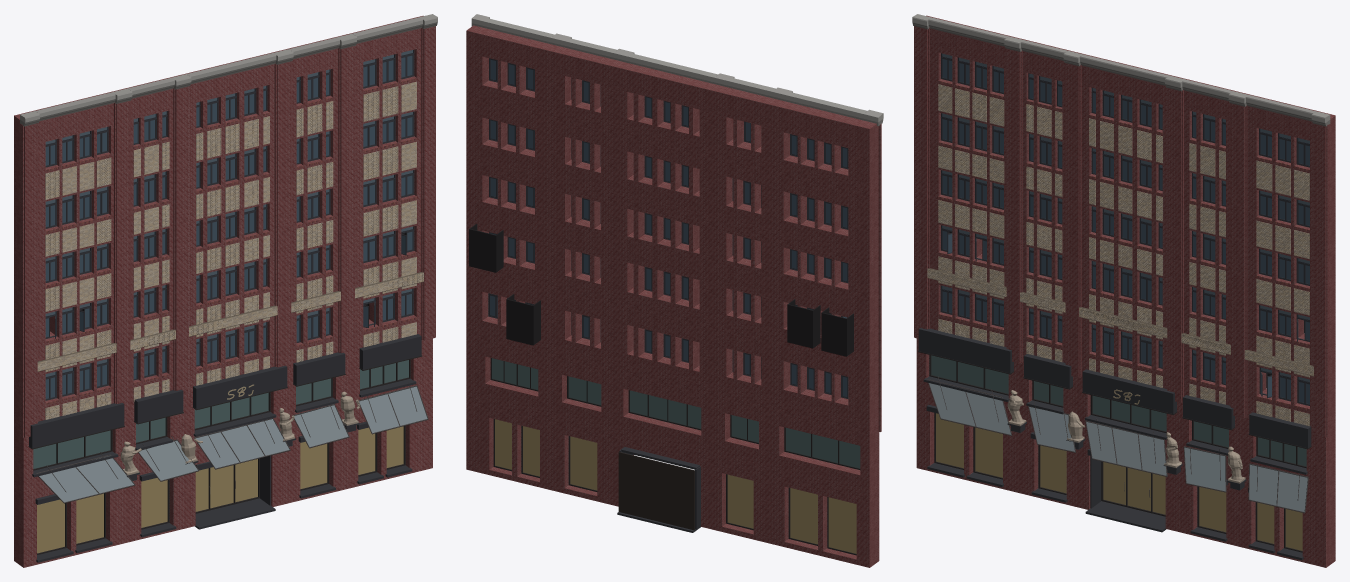
Rendered from huangpu-world-book-company-fuzhou-front-lod.glb.
3 renders of one model, left to right at view 1: azimuth 30°, elevation 25°; view 2: azimuth 150°, elevation 25°; view 3: azimuth 330°, elevation 25°, orthographic.
Visible parts, largest first — view 1: 世界书局福州路立面与外文书店店面; view 2: 世界书局福州路立面与外文书店店面; view 3: 世界书局福州路立面与外文书店店面.
Boxes of the visible parts, <box> form: 世界书局福州路立面与外文书店店面: <box>14,14,437,567</box>; 世界书局福州路立面与外文书店店面: <box>466,14,883,567</box>; 世界书局福州路立面与外文书店店面: <box>912,14,1335,567</box>.
Bounding box in the file's own units: 26.74 × 28.07 × 2.87.
27 materials, 1 textured.
